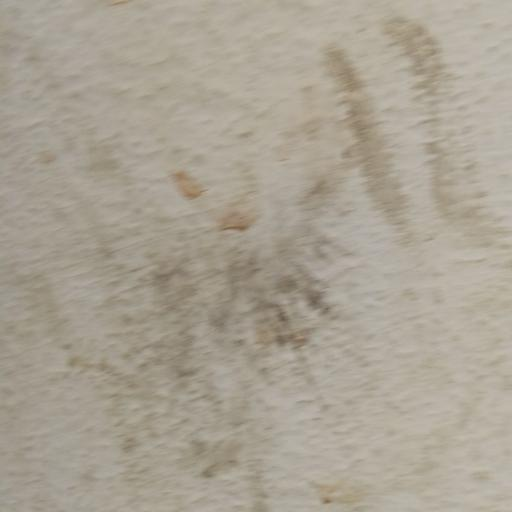stain: (71, 69, 474, 434)
